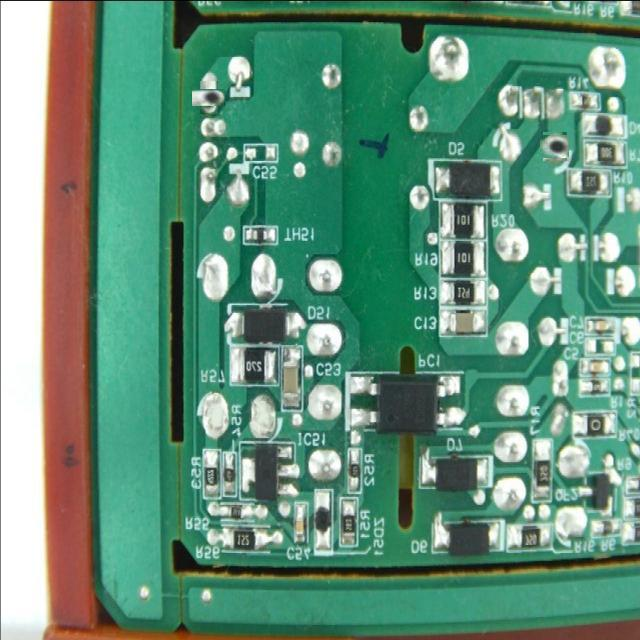damged: (542, 133, 568, 160), (196, 85, 222, 110)
